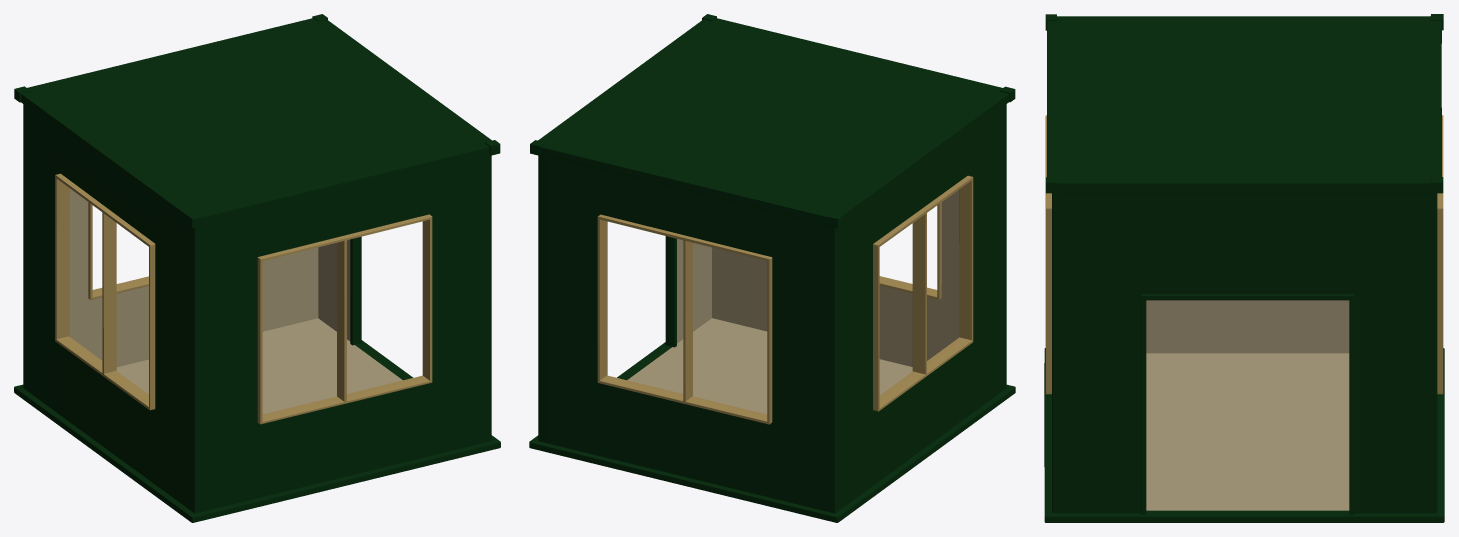
File: Observatory_small_high.fbx
3 renders of one model, left to right at view 1: azimuth 30°, elevation 25°; view 2: azimuth 150°, elevation 25°; view 3: azimuth 270°, elevation 25°, orthographic. The views are drawn at different scales.
Visible parts, largest first — view 1: observartory; view 2: observartory; view 3: observartory.
Boxes of the visible parts, bbox=[...] form: observartory: bbox=[14, 14, 500, 522]; observartory: bbox=[529, 14, 1015, 522]; observartory: bbox=[1044, 14, 1444, 522].
Size of the model in its own units: 3.63 by 3.41 by 3.64.
